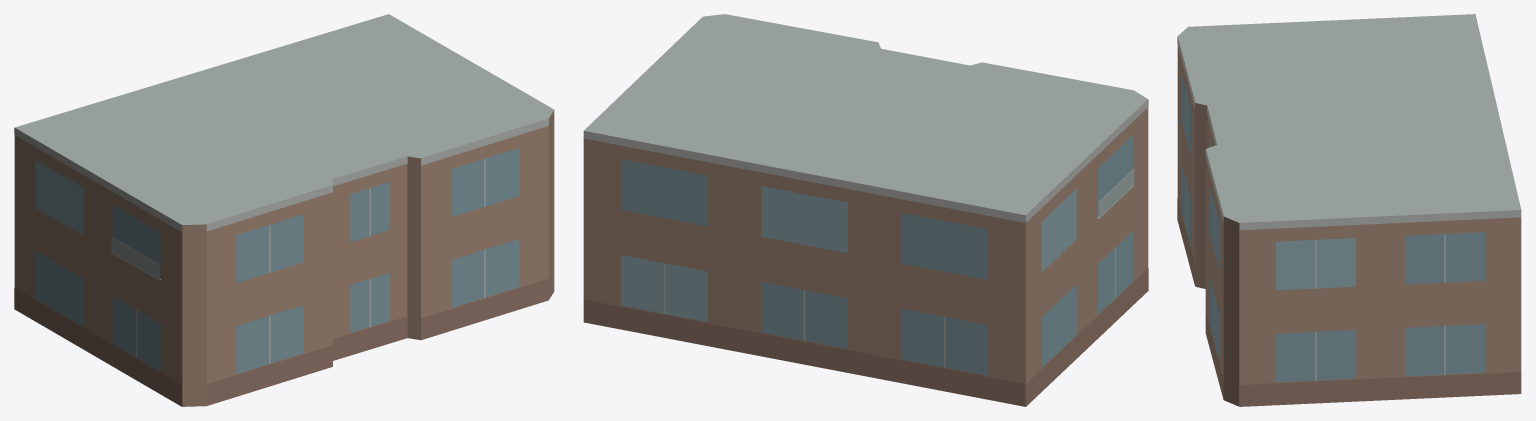
File: survey-upis-32505698.glb
The picture shows the model from 3 angles, left to right: view 1: azimuth 30°, elevation 25°; view 2: azimuth 150°, elevation 25°; view 3: azimuth 270°, elevation 25°; orthographic projection. The views are drawn at different scales.
Parts seen in each view (by area): view 1: survey-upis-32505698.tmp; view 2: survey-upis-32505698.tmp; view 3: survey-upis-32505698.tmp.
Part boxes in pixels (<box>): survey-upis-32505698.tmp: <box>14,14,554,406</box>; survey-upis-32505698.tmp: <box>583,14,1148,406</box>; survey-upis-32505698.tmp: <box>1177,14,1521,406</box>.
Size of the model in its own units: 14.88 by 6.1 by 10.35.
